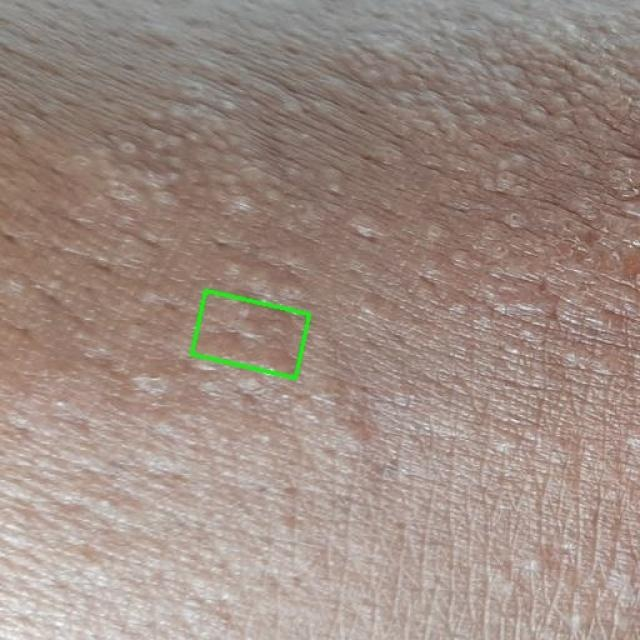Seborrheic Dermatitis: (191, 290, 310, 378)
